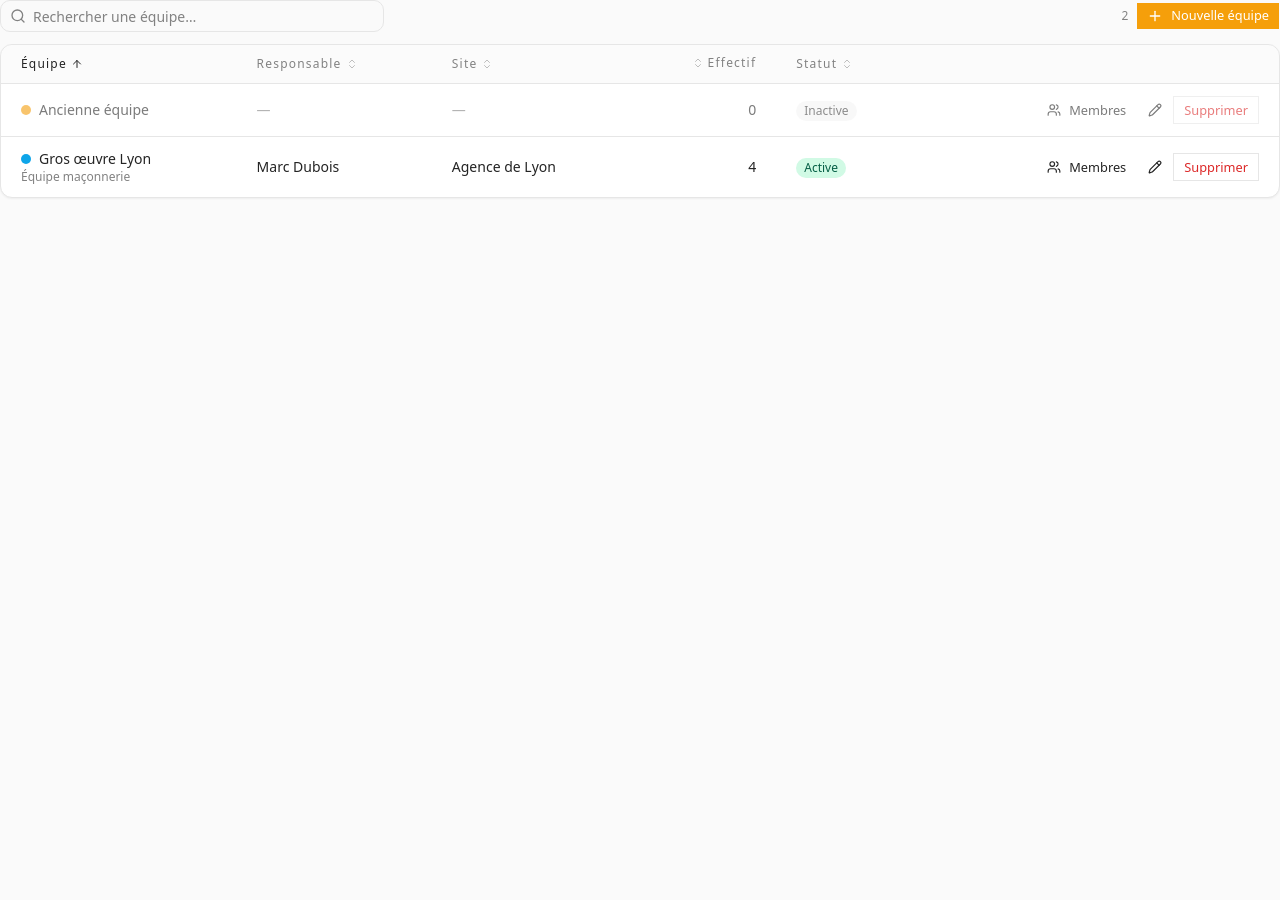
it: EquipesSection › refuse une couleur invalide côté client
This screenshot has width=1280, height=900.
Click the button "Nouvelle équipe".
click(1208, 16)  # box x1=1136 y1=2 x2=1279 y2=30
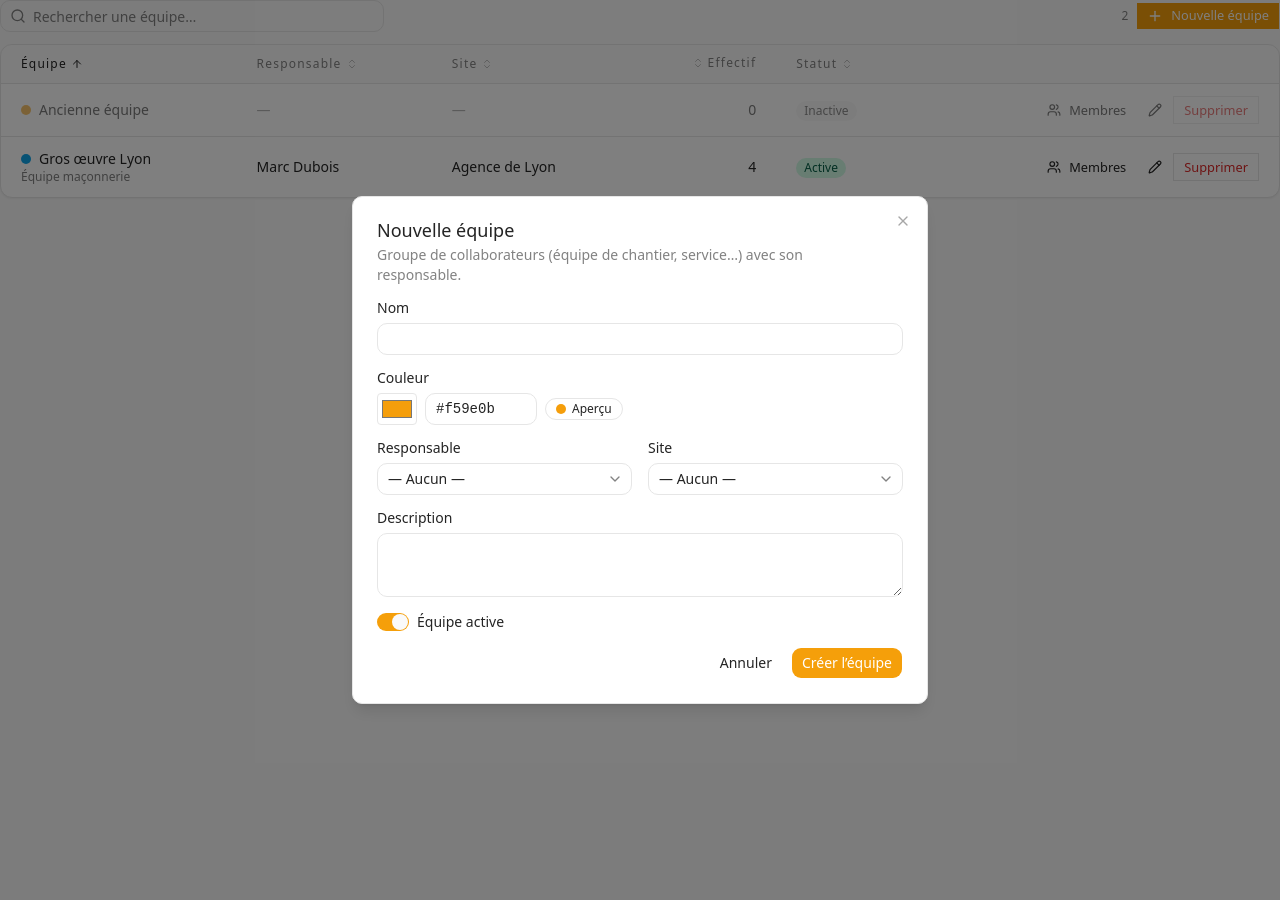
Type "Test" into the field labelled "Nom".
click(640, 339); type("Test")  # box x1=377 y1=323 x2=903 y2=355
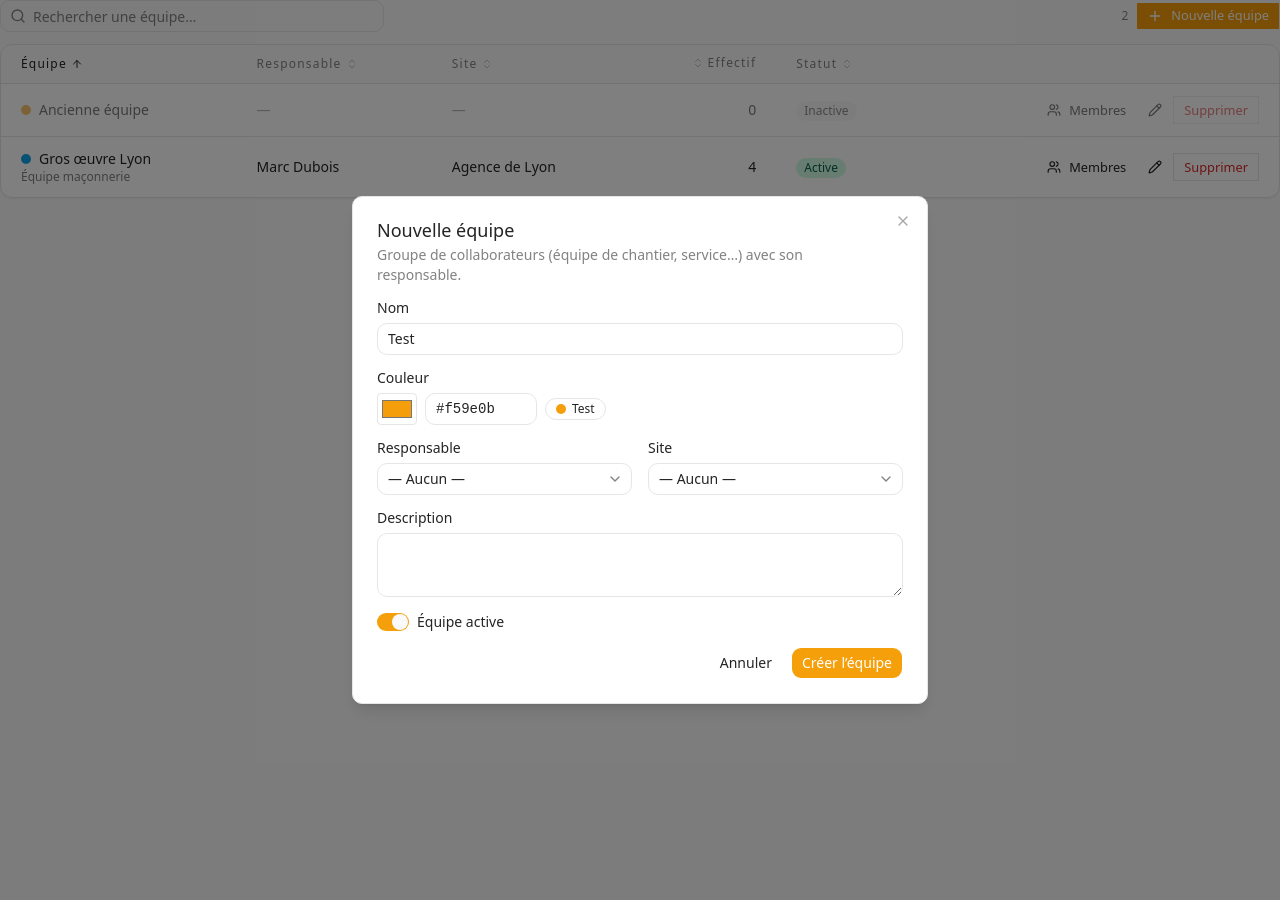
Replace the text in the field labelled "Couleur" with "rouge" at (481, 409), box x1=425 y1=393 x2=537 y2=425
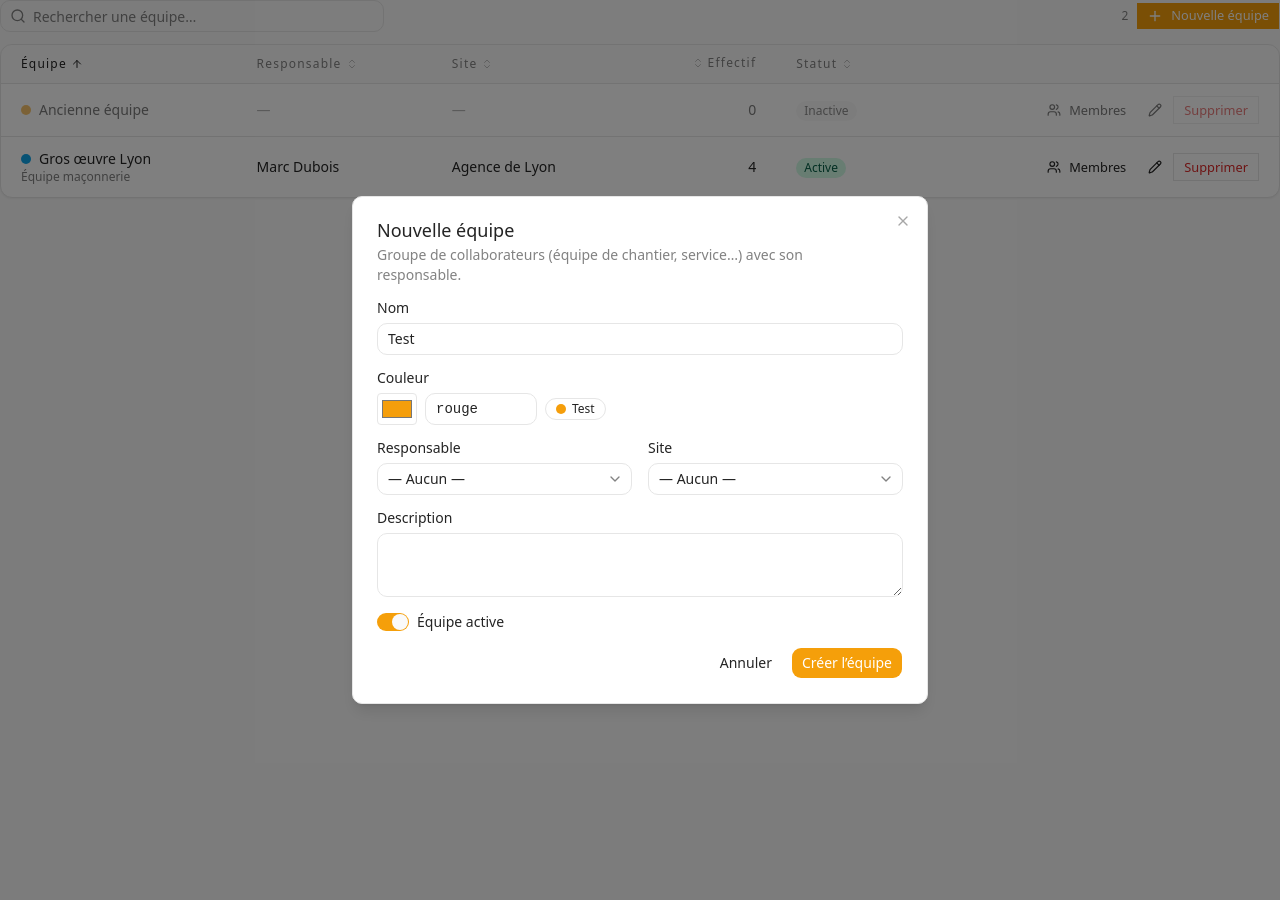
Click the button "Créer l’équipe".
click(847, 663)  # box x1=791 y1=647 x2=903 y2=679
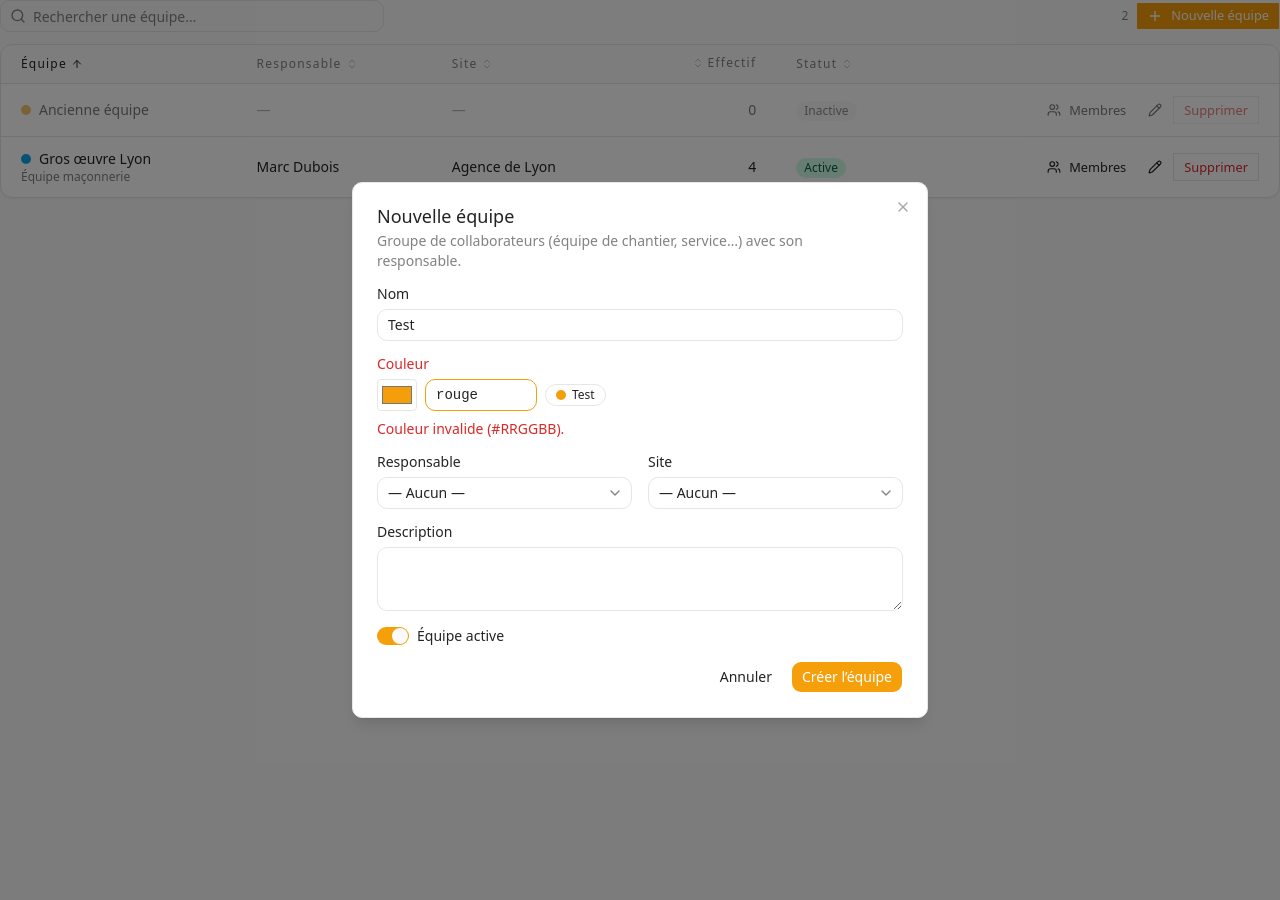
Result: the text "Couleur invalide (#RRGGBB)." is shown at x1=377 y1=419 x2=564 y2=438
